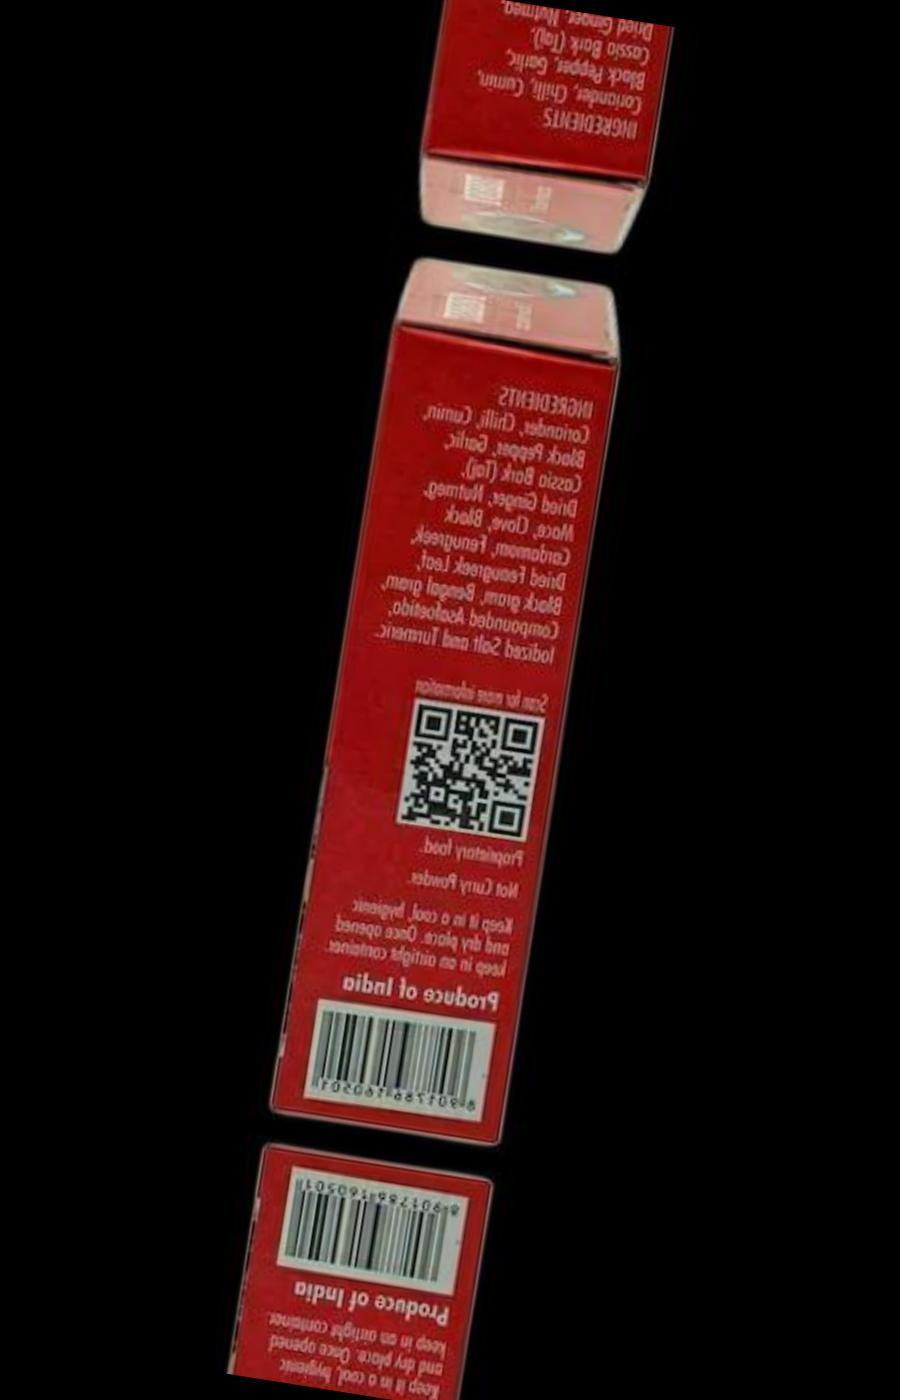Everest Chicken Masala 50 g: (258, 244, 644, 1156), (218, 1132, 504, 1400), (399, 0, 685, 267)
